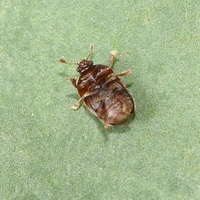insect: (59, 44, 134, 127)
